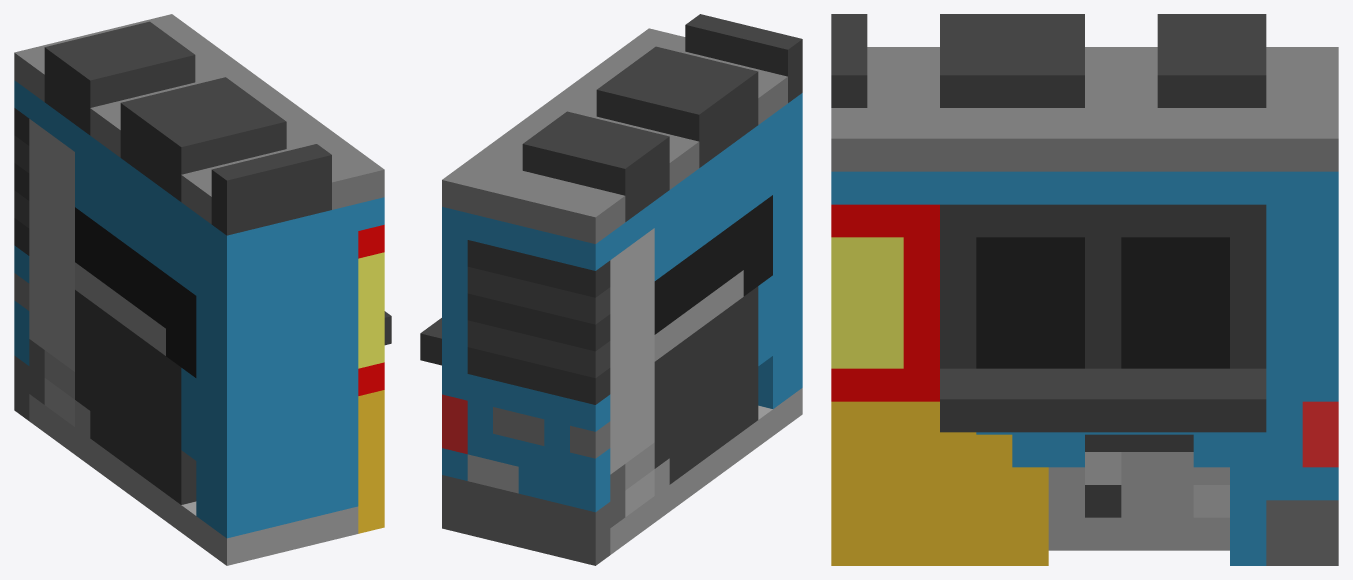
File: vanBotLeft.obj
3 renders of one model, left to right at view 1: azimuth 30°, elevation 25°; view 2: azimuth 150°, elevation 25°; view 3: azimuth 270°, elevation 25°, orthographic. The views are drawn at different scales.
Bounding box in the file's own units: 0.8 × 1.4 × 1.4.
Materials: 1 (1 with a texture image).
